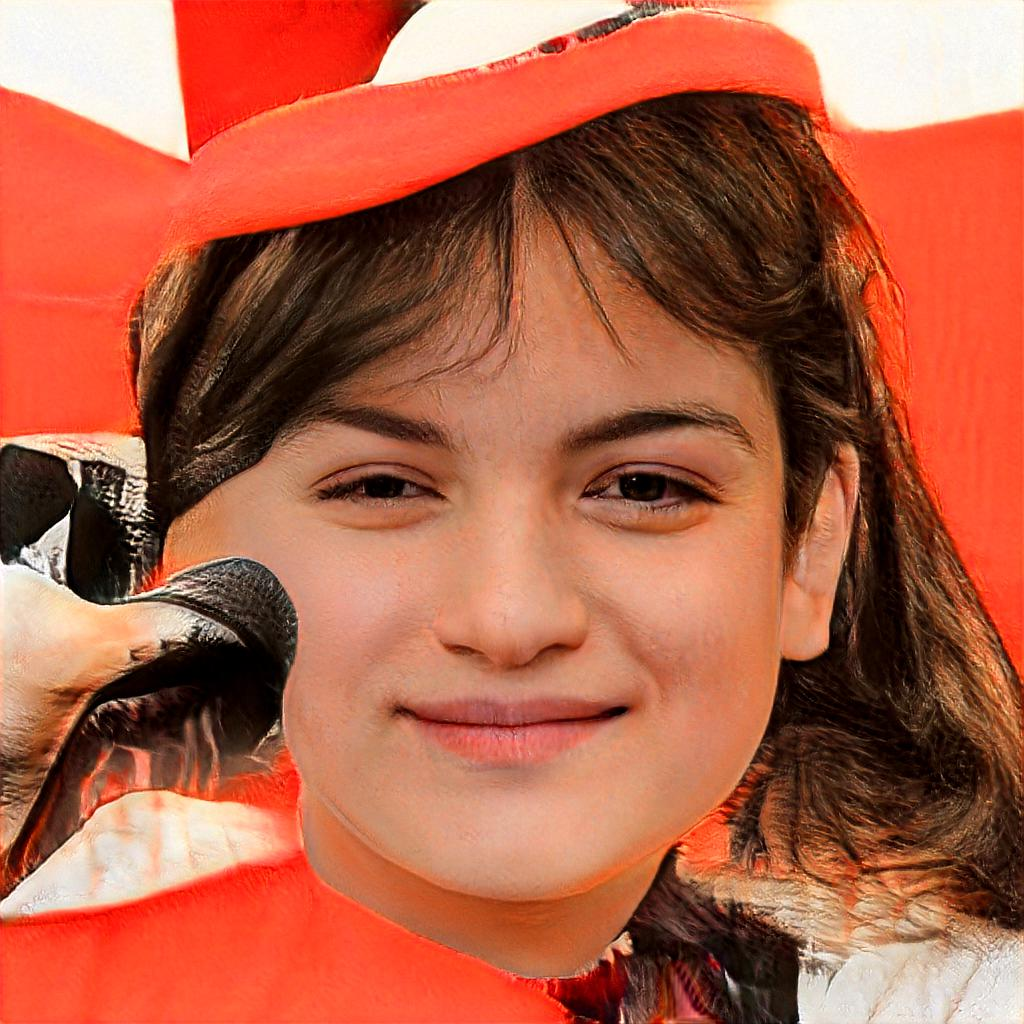face: (270, 194, 781, 900)
